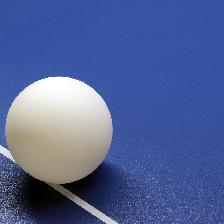WhiteBall: (4, 75, 112, 183)
